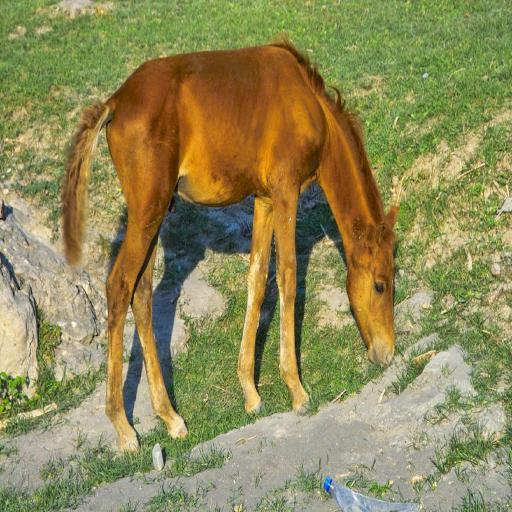horse: (60, 37, 401, 452)
